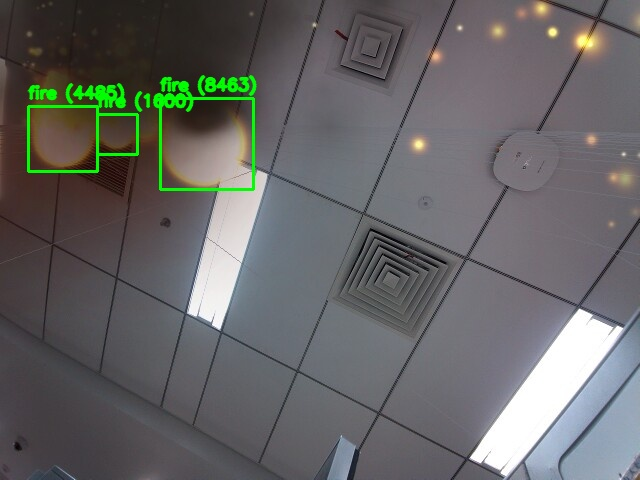fire: (160, 98, 253, 189), (28, 106, 97, 171), (97, 114, 137, 154)
